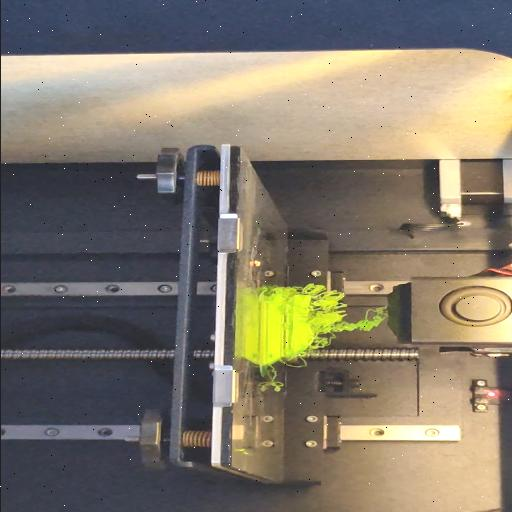spaghetti: (304, 284, 386, 348), (268, 366, 282, 392), (282, 356, 310, 368), (254, 286, 270, 296)
